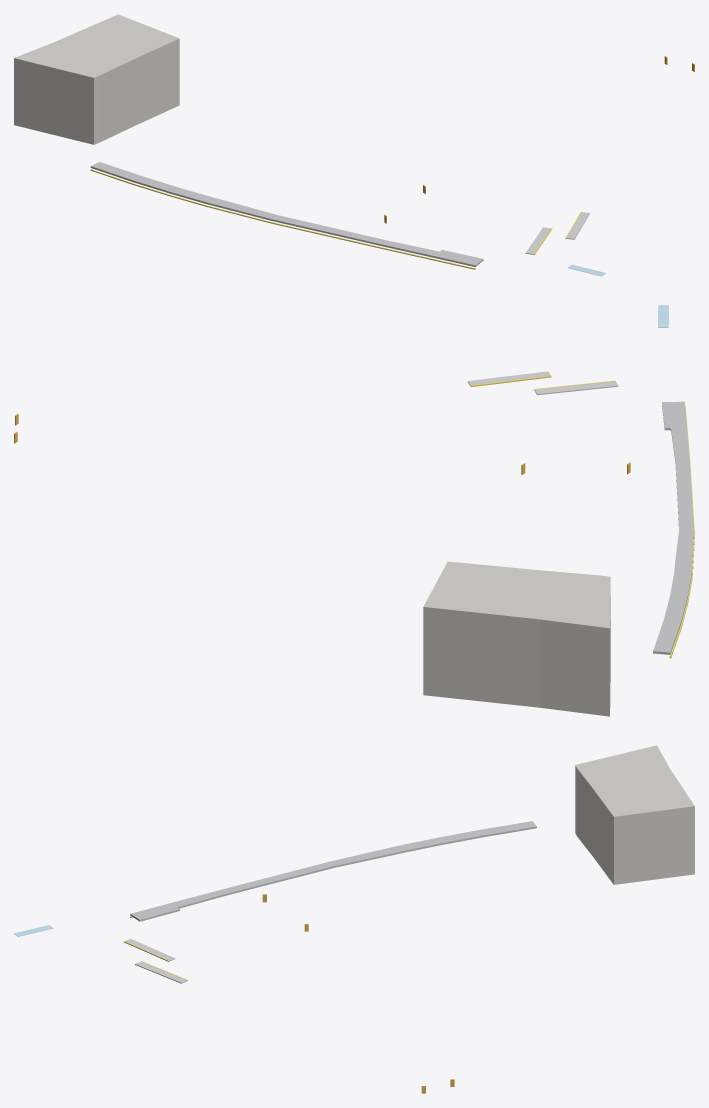
Rendered from 8507067-deisswil.glb.
The picture shows the model from 3 angles, top to bottom: view 1: azimuth 30°, elevation 25°; view 2: azimuth 150°, elevation 25°; view 3: azimuth 270°, elevation 25°; orthographic projection. The views are drawn at different scales.
Visible parts, largest first — view 1: building_part@x, platform_surface@0, boarding_edge@0, platform_body@0; view 2: building_part@x, platform_surface@0, platform_body@0, boarding_edge@0; view 3: building_part@x, platform_surface@0, platform_body@0.
Part boxes in pixels (<box>): building_part@x: <box>14,14,179,144</box>; platform_surface@0: <box>90,162,483,266</box>; boarding_edge@0: <box>90,169,581,269</box>; platform_body@0: <box>525,212,589,254</box>; building_part@x: <box>423,561,610,716</box>; platform_surface@0: <box>653,401,694,654</box>; platform_body@0: <box>467,371,618,395</box>; boarding_edge@0: <box>471,375,694,658</box>; building_part@x: <box>575,745,694,884</box>; platform_surface@0: <box>130,821,536,921</box>; platform_body@0: <box>125,938,187,983</box>.
Size of the model in its own units: 185 by 22.32 by 190.
